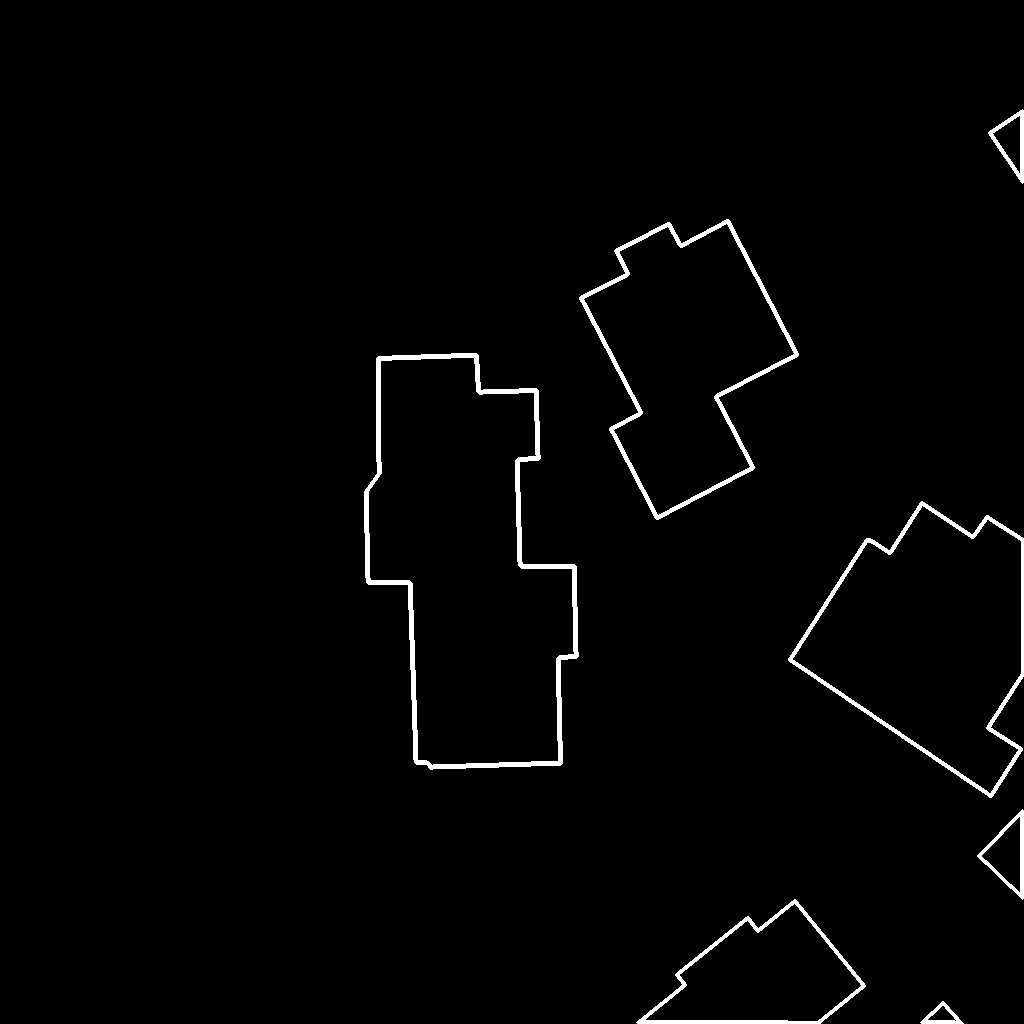building: (366, 355, 577, 768), (790, 503, 1024, 797), (581, 221, 798, 519), (638, 901, 865, 1024), (979, 811, 1024, 899), (990, 111, 1024, 183), (922, 1003, 963, 1024)
